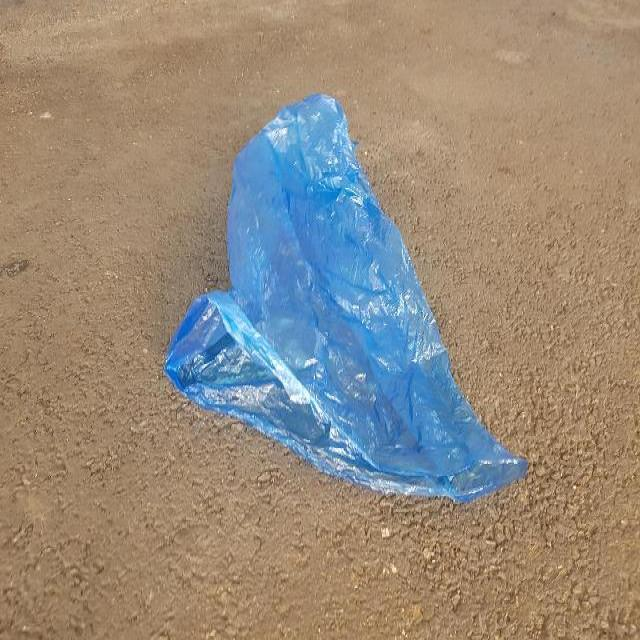plastic bag: (161, 88, 529, 508)
